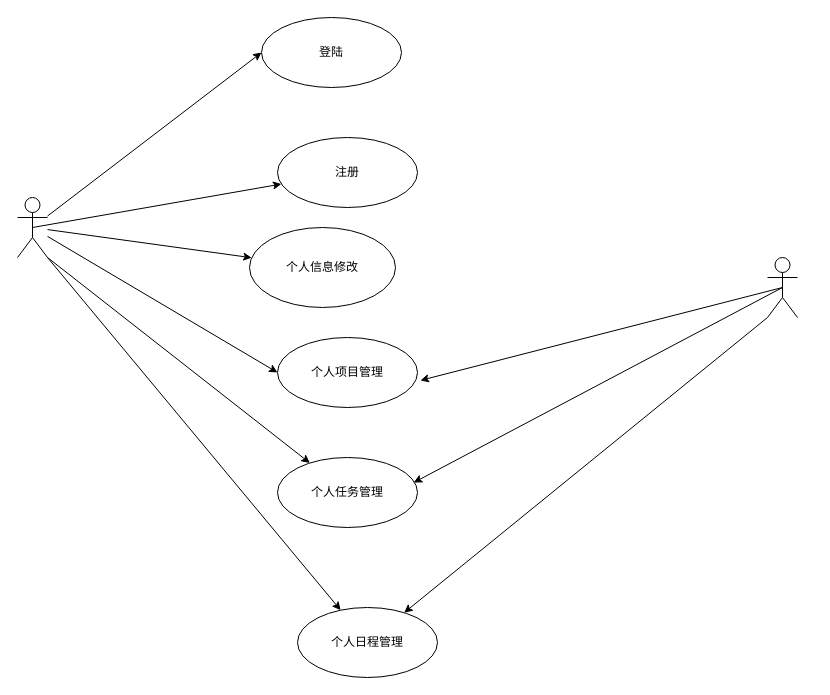
The diagram is 830 pixels wide and 695 high, and some of its shapes have lost their labels. The box of each missing label's shape, as (x1, y1, x2, y2) in pixels:
用户: (16, 196, 48, 258)
项目管理员: (766, 256, 798, 318)
